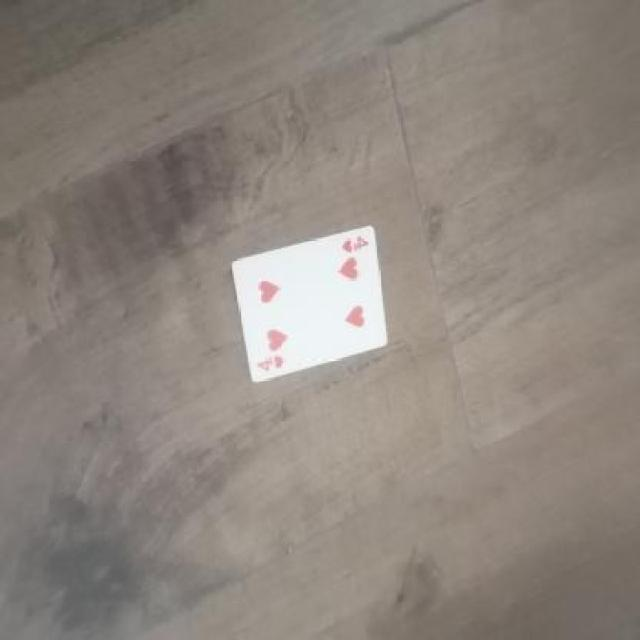4H: (250, 344, 288, 378), (338, 229, 371, 254)
